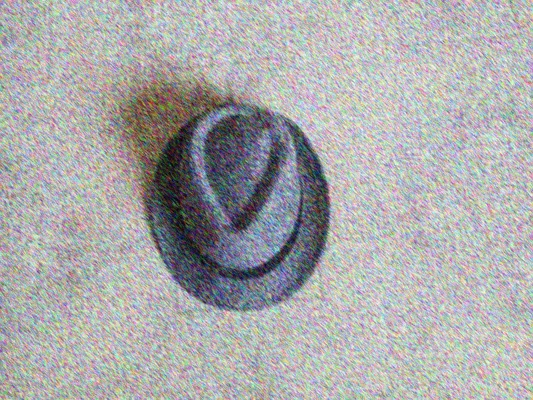Hat: (147, 84, 343, 321)
